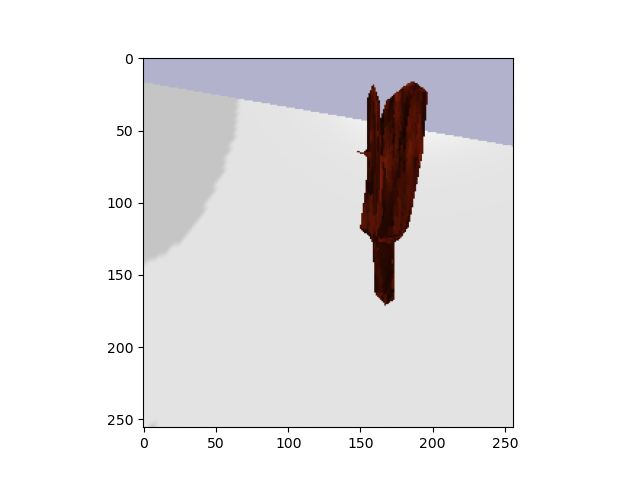v249b387_107: (353, 78, 442, 313)
